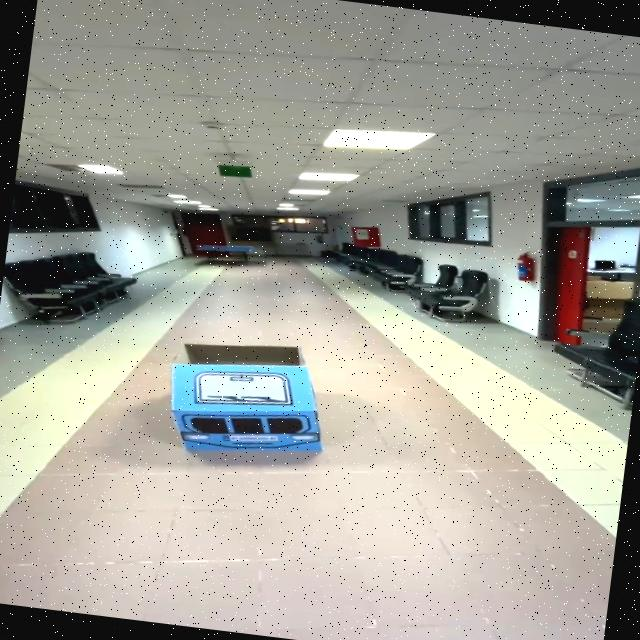blue_car: (114, 312, 384, 487)
